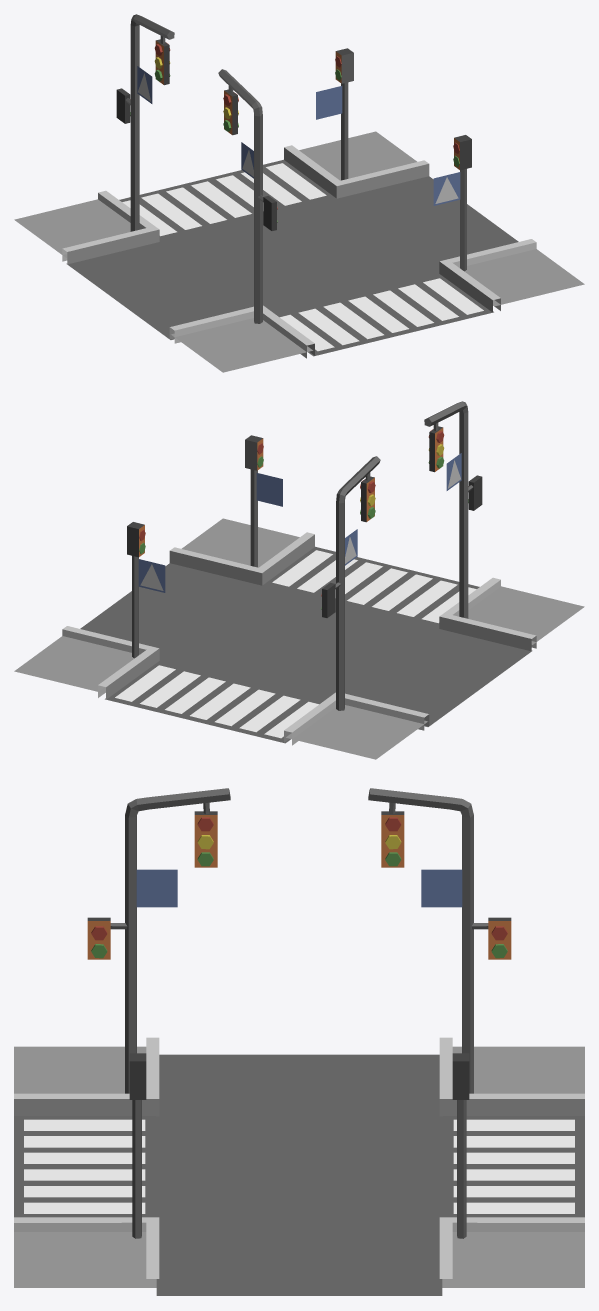
File: road_tile_1x1_013.fbx
3 views of the same model, one above another, from view 1: azimuth 30°, elevation 25°; view 2: azimuth 150°, elevation 25°; view 3: azimuth 270°, elevation 25° (orthographic). The views are drawn at different scales.
Visible parts, largest first — view 1: road_tile_1x1_013; view 2: road_tile_1x1_013; view 3: road_tile_1x1_013.
Part boxes in pixels (box(x1,y1,x2,y2)): road_tile_1x1_013: box(14, 14, 584, 372); road_tile_1x1_013: box(14, 401, 584, 759); road_tile_1x1_013: box(14, 788, 584, 1295).
Size of the model in its own units: 800 by 494 by 800.
